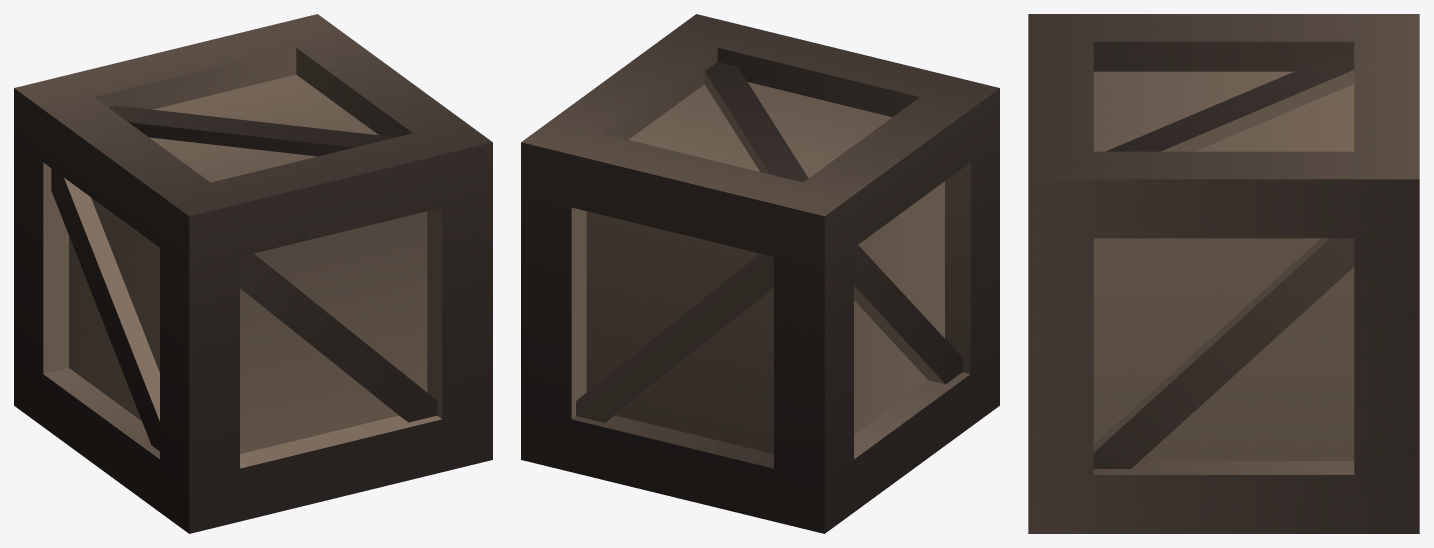
The model's file is crate 1.fbx.
3 views of the same model, side by side, from view 1: azimuth 30°, elevation 25°; view 2: azimuth 150°, elevation 25°; view 3: azimuth 270°, elevation 25° (orthographic). The views are drawn at different scales.
Visible parts, largest first — view 1: Box005; view 2: Box005; view 3: Box005.
Part boxes in pixels (x1,y1,x2,y2): Box005: [14, 14, 492, 533]; Box005: [521, 14, 999, 533]; Box005: [1028, 14, 1419, 533].
Bounding box in the file's own units: 1000 × 1000 × 1000.
